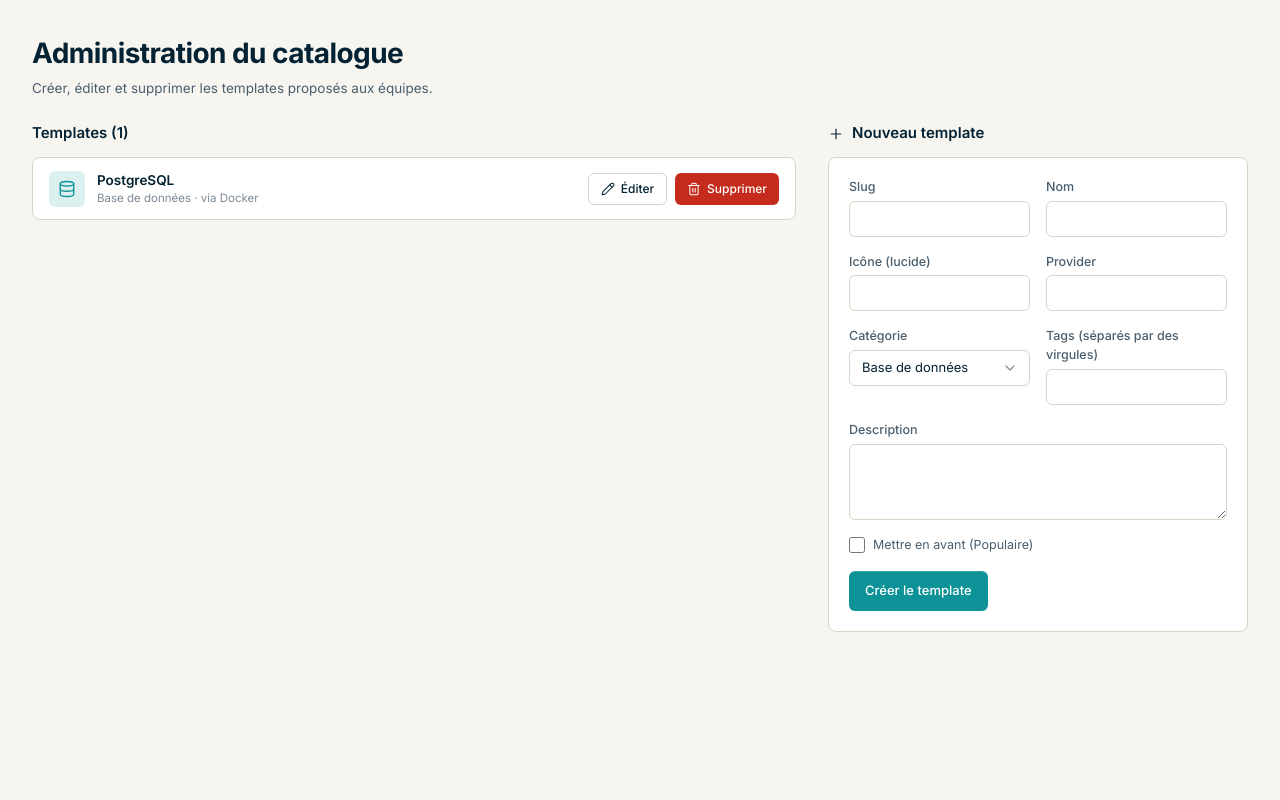
Scenario: CatalogAdminPage › affiche les erreurs de validation et n’appelle pas l’API
Expected: the text "PostgreSQL" is shown, [97,172,174,188]
Click the button "Créer le template" at (918, 591), box [849,571,988,611]
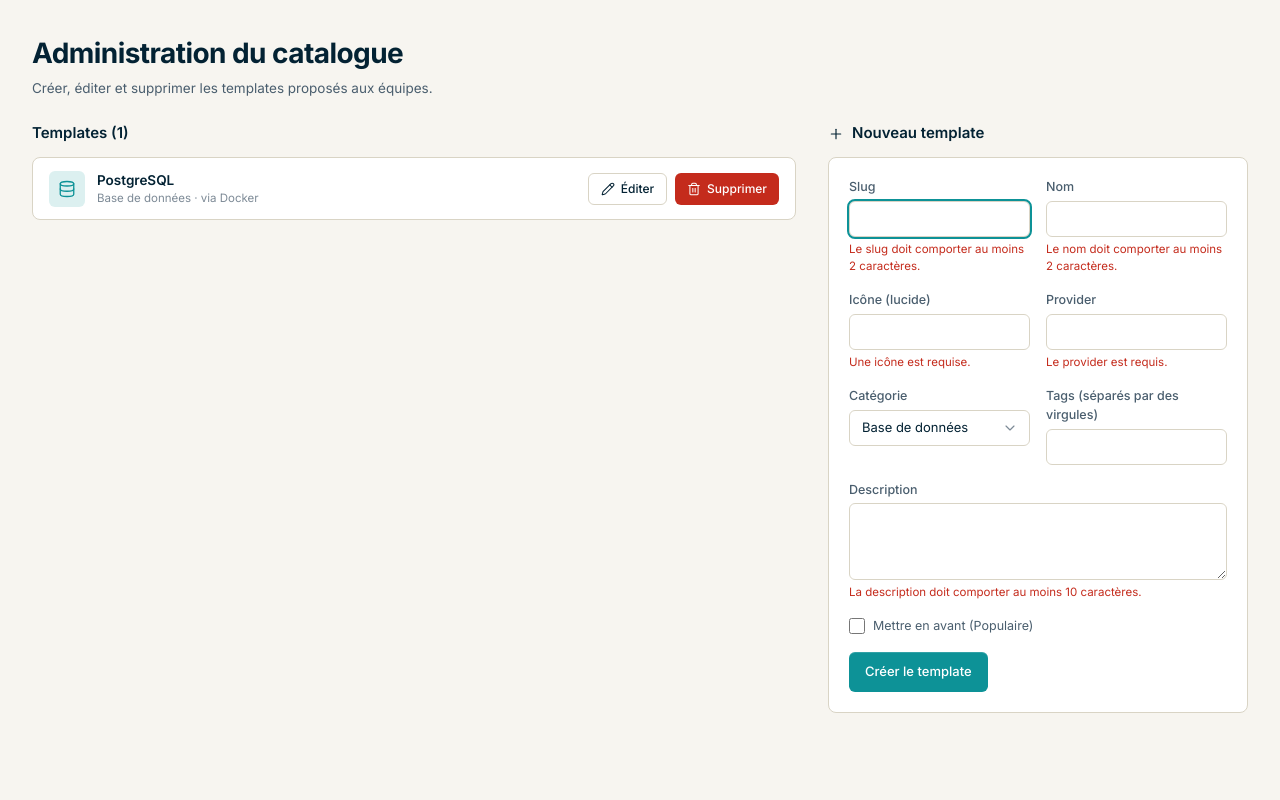
Result: the text "Le slug doit comporter au moins 2 caractères." is shown at [849,240,1030,275]
